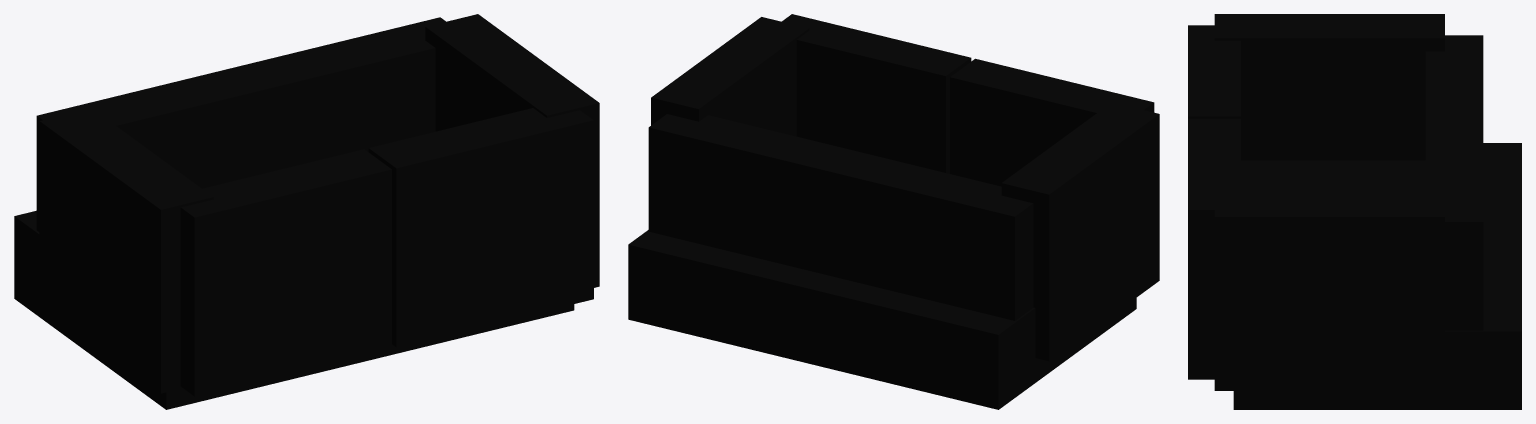
The model's file is brood_heavy_boots.obj.
The picture shows the model from 3 angles, left to right: view 1: azimuth 30°, elevation 25°; view 2: azimuth 150°, elevation 25°; view 3: azimuth 270°, elevation 25°; orthographic projection. The views are drawn at different scales.
Bounding box in the file's own units: 0.875 × 0.4025 × 0.6081.
